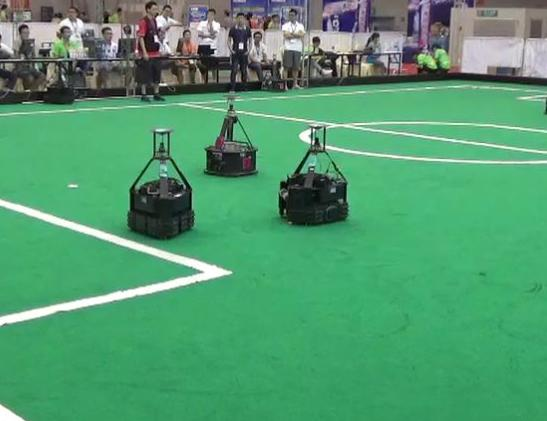robot: (122, 122, 195, 240), (276, 120, 354, 227), (200, 90, 261, 180)
